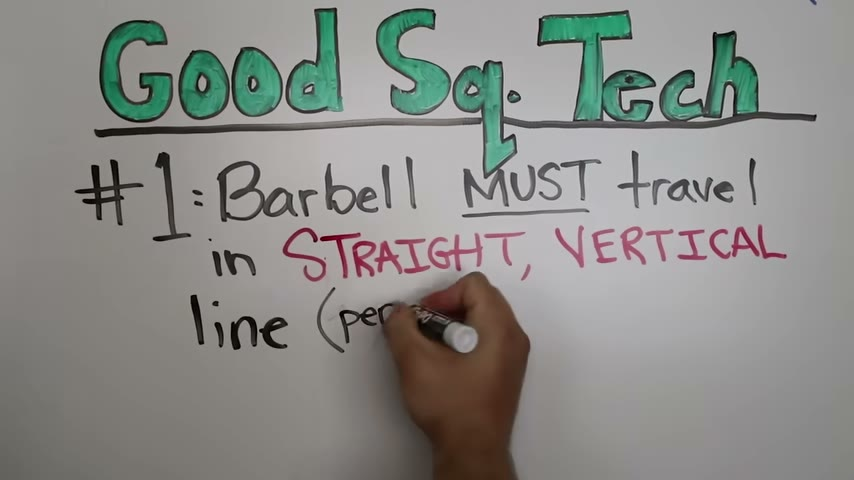barbell_plate_side: (93, 5, 164, 154)
